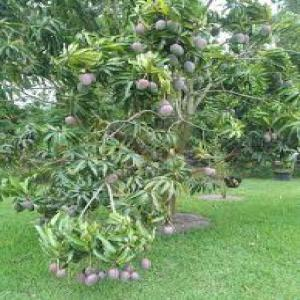Tree: (5, 2, 298, 283)
